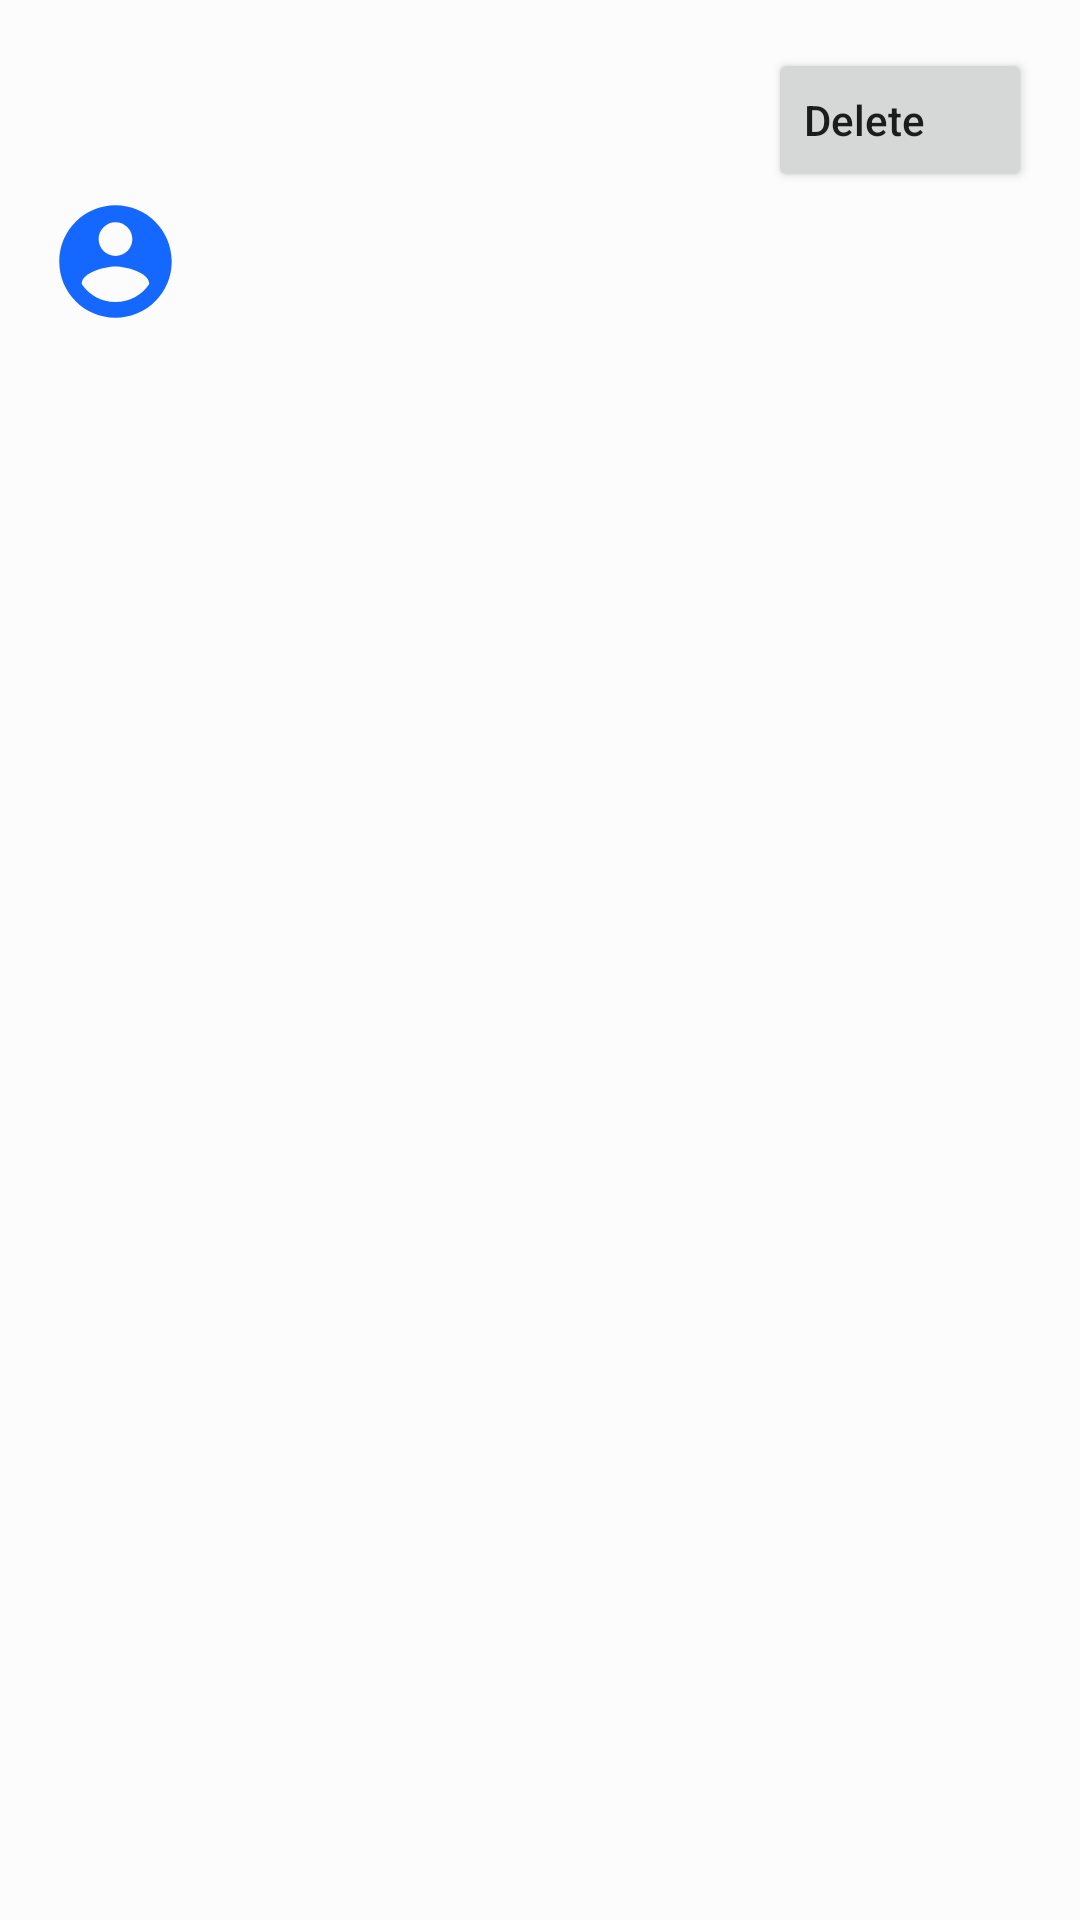

Icon bounding boxes for this 1080w x 1920h phone screenshot, format (x1, y1, x2, y2):
account circle: (59, 205, 172, 318)
